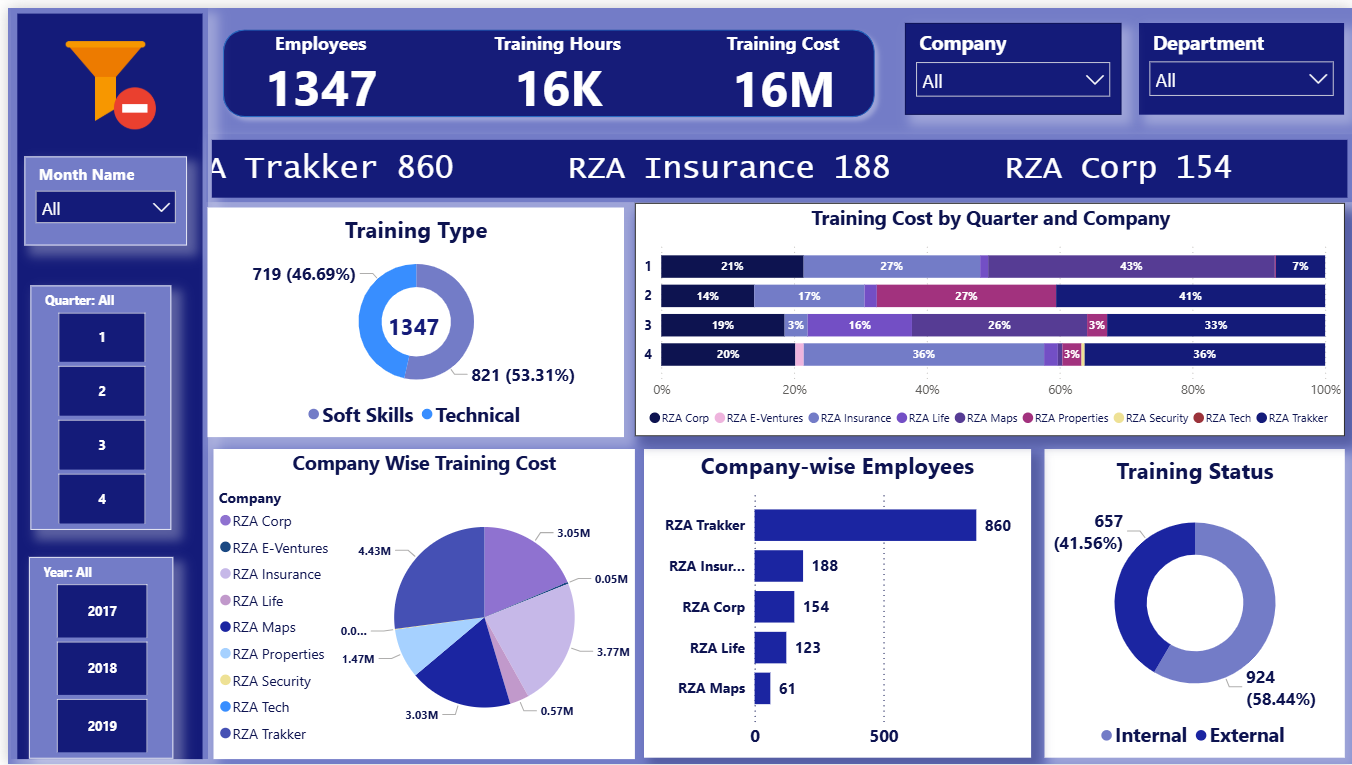

This screenshot's page, from the dashboard's own definition file:
{"tool":"powerbi","page":{"name":"Page 1","canvas":[1280,720],"ordinal":0},"visuals":[{"type":"shape","box":[195.2,10.9,638.8,101.5],"z":0},{"type":"donutChart","title":" Training Type","fields":{"Category":["RZATrainings.Training Type"],"Y":["Count(RZATrainings.Employee No)"]},"box":[190.3,190.6,396.7,218.7],"z":0,"group":"g1"},{"type":"card","fields":{"Values":["Count(RZATrainings.Employee No)"]},"box":[317.6,272.9,137.4,62.5],"z":1000,"group":"g1"},{"type":"donutChart","title":"Training Status","fields":{"Category":["RZATrainings.Trainer Type"],"Y":["Count(RZATrainings.Employee No)"]},"box":[987.1,420,285.7,294.3],"z":1000},{"type":"clusteredBarChart","title":"Company-wise Employees","fields":{"Category":["RZATrainings.Company"],"Y":["Count(RZATrainings.Employee No)"]},"box":[605.7,420,368.6,294.3],"z":2000},{"type":"shape","box":[3.1,0,187.4,715.3],"z":3000},{"type":"slicer","fields":{"Values":["RZATrainings.Department"]},"box":[1077.7,14.1,195.2,87.5],"z":4000},{"type":"card","title":"Employees","fields":{"Values":["Count(RZATrainings.Employee No)"]},"box":[205.1,21.3,184.3,81.2],"z":5000},{"type":"card","title":"Training Cost","fields":{"Values":["Sum(RZATrainings.Training Cost (PKR))"]},"box":[650.2,21.3,176.5,82.8],"z":6000},{"type":"card","title":"Training Hours","fields":{"Values":["Sum(RZATrainings.Training Hours)"]},"box":[433.1,21.3,181.2,81.2],"z":7000},{"type":"slicer","fields":{"Values":["RZATrainings.Quarter"]},"box":[21.9,263.9,134.3,232.7],"z":8000},{"type":"ScrollingTextVisual1448795304508","title":"Employee No by Company","fields":{"Category":["RZATrainings.Company"],"Measure Absolute":["Count(RZATrainings.Employee No)"]},"box":[189,120.3,1091.7,65.6],"z":9000},{"type":"image","box":[32.8,14.1,120.3,106.2],"z":10000},{"type":"slicer","fields":{"Values":["RZATrainings.Year"]},"box":[20.3,523.2,137.4,192.1],"z":11000},{"type":"slicer","fields":{"Values":["RZATrainings.Month Name"]},"box":[15.6,142.1,154.6,84.3],"z":12000},{"type":"group","id":"g1","title":"Group 1","box":[190.3,190.6,396.7,218.7],"z":13000},{"type":"slicer","fields":{"Values":["RZATrainings.Company"]},"box":[854.3,14.1,206.2,87.5],"z":14000},{"type":"hundredPercentStackedBarChart","title":" Training Cost by Quarter and Company","fields":{"Category":["RZATrainings.Quarter"],"Y":["Sum(RZATrainings.Training Cost (PKR))"],"Series":["RZATrainings.Company"]},"box":[596.6,185.9,676.3,221.8],"z":15000},{"type":"pieChart","title":"Company Wise Training Cost","fields":{"Category":["RZATrainings.Company"],"Y":["Sum(RZATrainings.Training Cost (PKR))"]},"box":[195.2,420.1,401.4,295.2],"z":16000}]}

Visuals, with their boxes in screenshot pixels (x1, y1, x2, y2), scaled from the page's 1280x720 canvas onto the 1352x765 screenshot:
shape: region(206, 12, 881, 119)
" Training Type" donutChart: region(201, 203, 620, 435)
card - Count(RZATrainings.Employee No): region(335, 290, 481, 356)
"Training Status" donutChart: region(1043, 446, 1344, 759)
"Company-wise Employees" clusteredBarChart: region(640, 446, 1029, 759)
shape: region(3, 0, 201, 760)
slicer - RZATrainings.Department: region(1138, 15, 1345, 108)
"Employees" card: region(217, 23, 411, 109)
"Training Cost" card: region(687, 23, 873, 111)
"Training Hours" card: region(457, 23, 649, 109)
slicer - RZATrainings.Quarter: region(23, 280, 165, 528)
"Employee No by Company" ScrollingTextVisual1448795304508: region(200, 128, 1351, 198)
image: region(35, 15, 162, 128)
slicer - RZATrainings.Year: region(21, 556, 167, 760)
slicer - RZATrainings.Month Name: region(16, 151, 180, 241)
"Group 1" group: region(201, 203, 620, 435)
slicer - RZATrainings.Company: region(902, 15, 1120, 108)
" Training Cost by Quarter and Company" hundredPercentStackedBarChart: region(630, 198, 1345, 433)
"Company Wise Training Cost" pieChart: region(206, 446, 630, 760)
